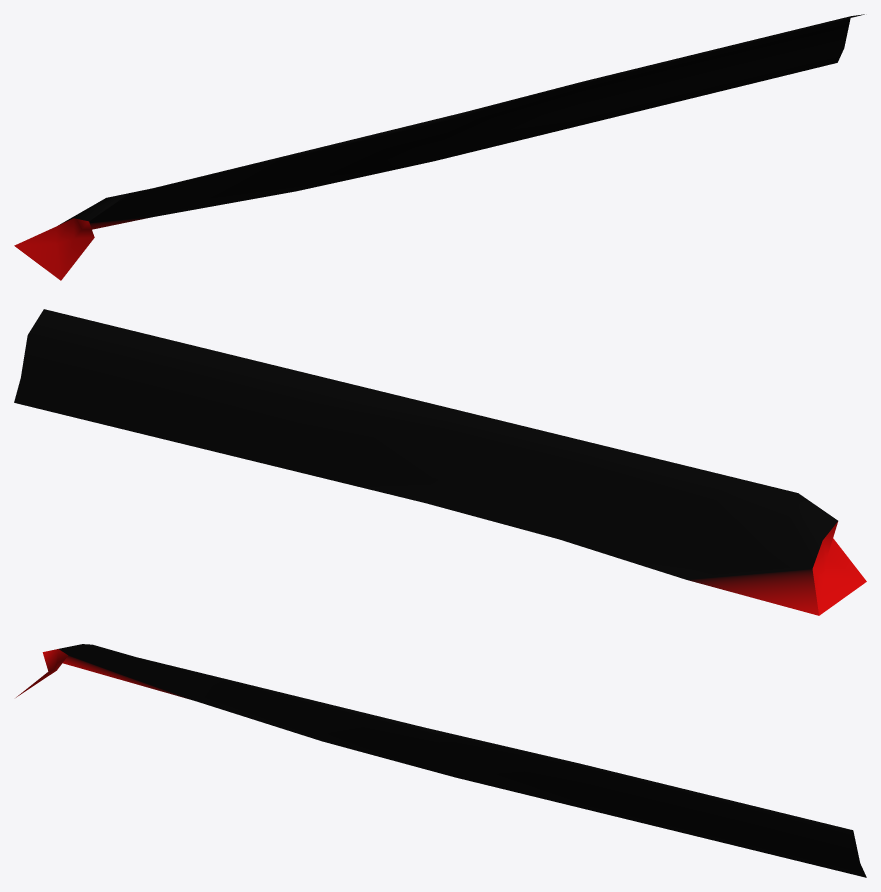
The model's file is Section_CoastTerrainSteepCapL_Terrain.fbx.
The picture shows the model from 3 angles, top to bottom: view 1: azimuth 30°, elevation 25°; view 2: azimuth 150°, elevation 25°; view 3: azimuth 330°, elevation 25°; orthographic projection. The views are drawn at different scales.
Parts seen in each view (by area): view 1: Section_CoastTerrainSteepCapL_Terrain; view 2: Section_CoastTerrainSteepCapL_Terrain; view 3: Section_CoastTerrainSteepCapL_Terrain.
Boxes of the visible parts, x1,y1,x2,y2 form: Section_CoastTerrainSteepCapL_Terrain: (14, 14, 864, 280); Section_CoastTerrainSteepCapL_Terrain: (14, 309, 866, 615); Section_CoastTerrainSteepCapL_Terrain: (16, 644, 866, 877).
Bounding box in the file's own units: 3001 × 250 × 303.
